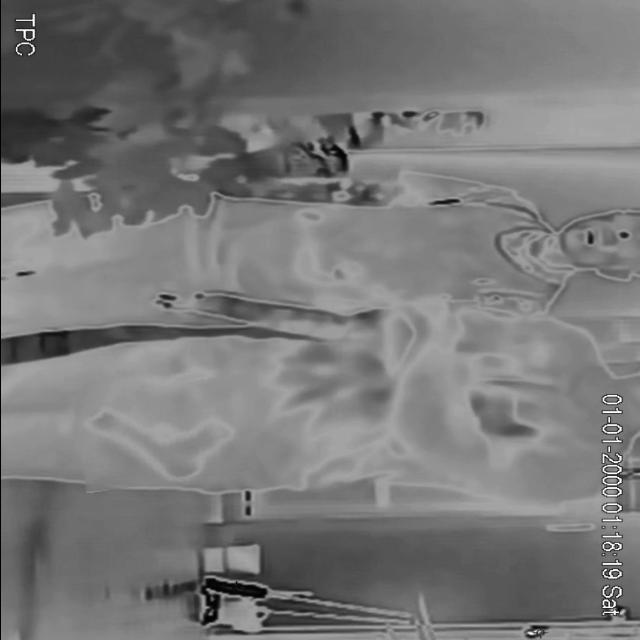Weapon: (74, 380, 253, 488)
